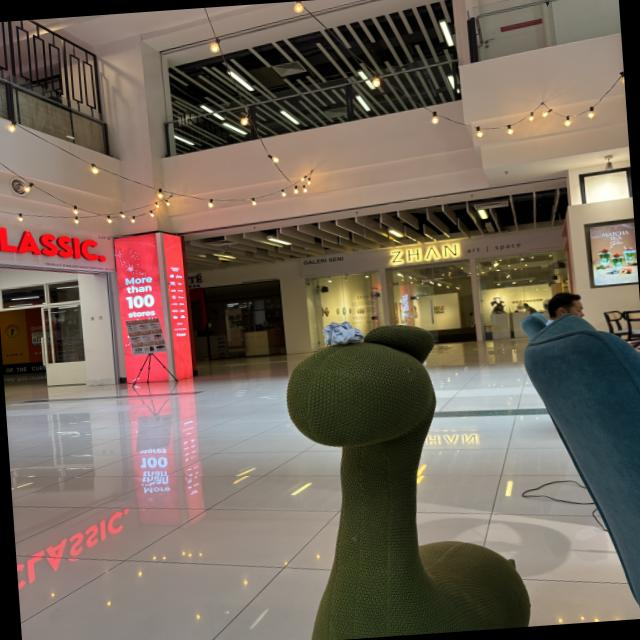crumpled_paper: (321, 316, 366, 348)
